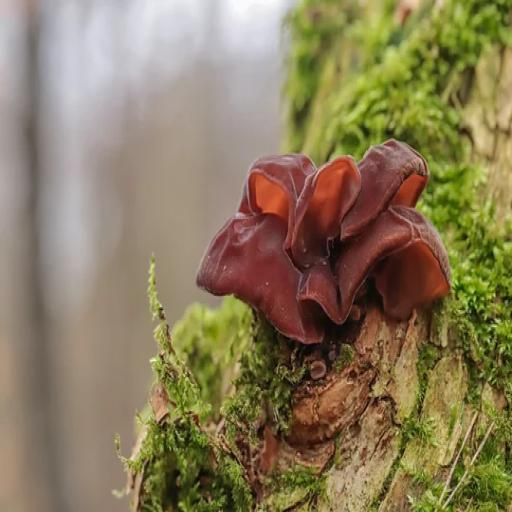mushroom: (198, 132, 449, 354)
